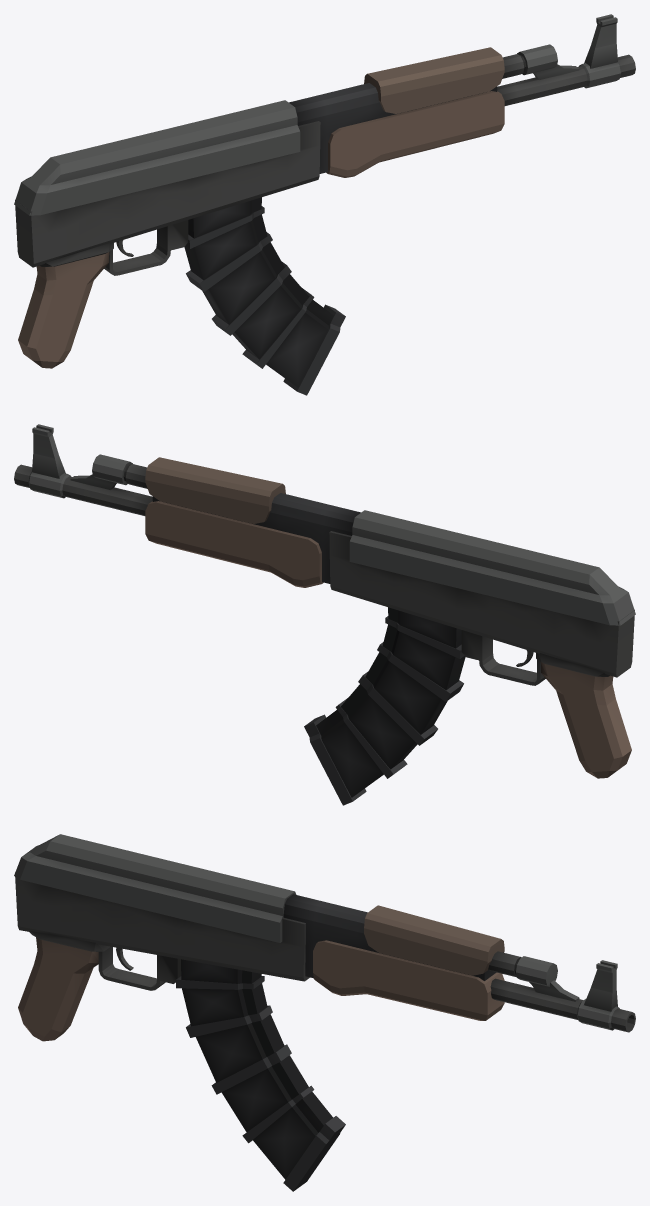
Rendered from q-assaultrifle-3.glb.
The picture shows the model from 3 angles, top to bottom: view 1: azimuth 30°, elevation 25°; view 2: azimuth 150°, elevation 25°; view 3: azimuth 330°, elevation 25°; orthographic projection.
Visible parts, largest first — view 1: body; view 2: body; view 3: body.
Part boxes in pixels (x1,y1,x2,y2): body: (14, 14, 635, 395); body: (14, 424, 635, 805); body: (14, 834, 635, 1191).
Bounding box in the file's own units: 0.9 × 0.42 × 0.0514.
